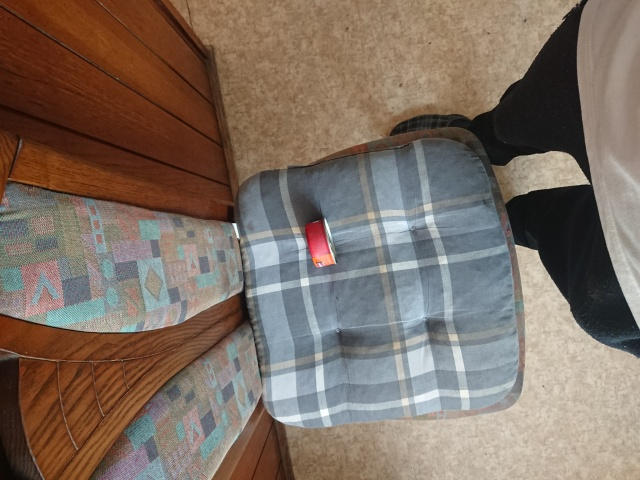Gavrilovic Pork Liver Pate 100g: (302, 215, 340, 269)
